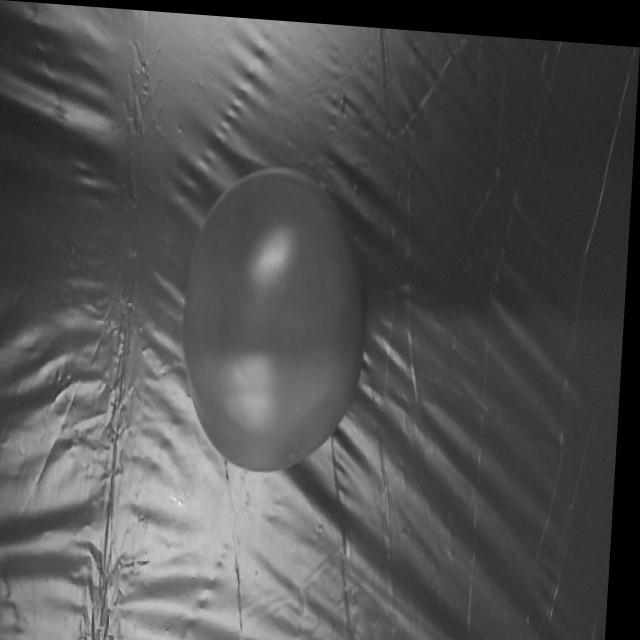kirmizi: (181, 164, 379, 491)
